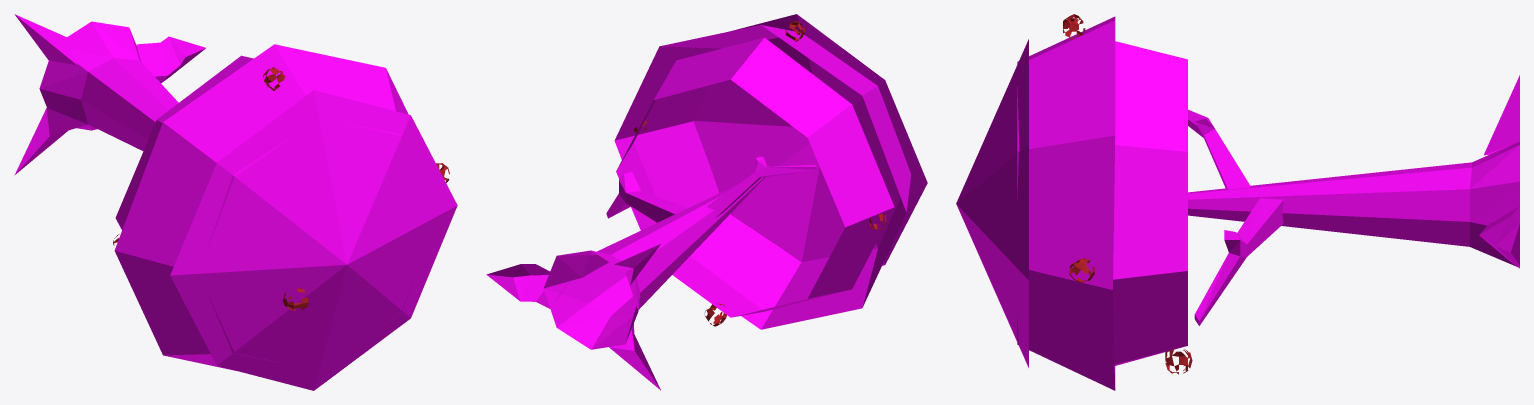
File: 4_mature_partial.obj
3 renders of one model, left to right at view 1: azimuth 30°, elevation 25°; view 2: azimuth 150°, elevation 25°; view 3: azimuth 270°, elevation 25°, orthographic. The views are drawn at different scales.
Parts seen in each view (by area): view 1: apple_4_partial; view 2: apple_4_partial; view 3: apple_4_partial.
Part boxes in pixels (x1,y1,x2,y2): apple_4_partial: (14,14,457,390); apple_4_partial: (486,14,927,390); apple_4_partial: (956,14,1519,390).
Size of the model in its own units: 1.79 by 1.78 by 2.48.
